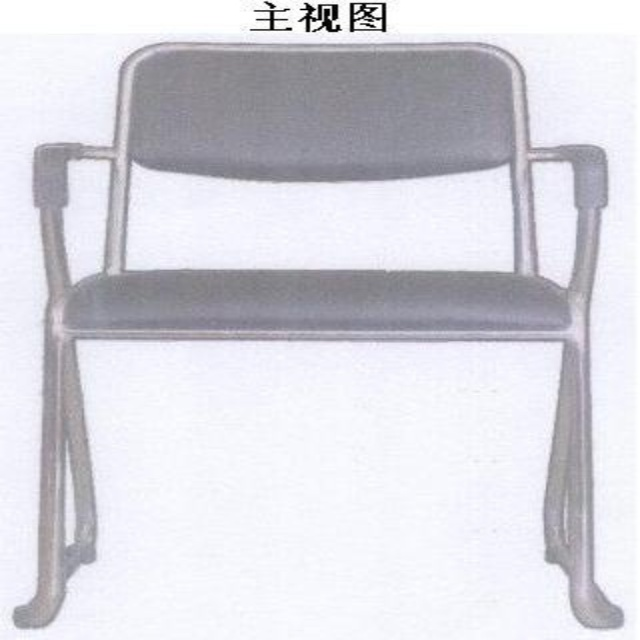obstacle: (14, 42, 622, 627)
